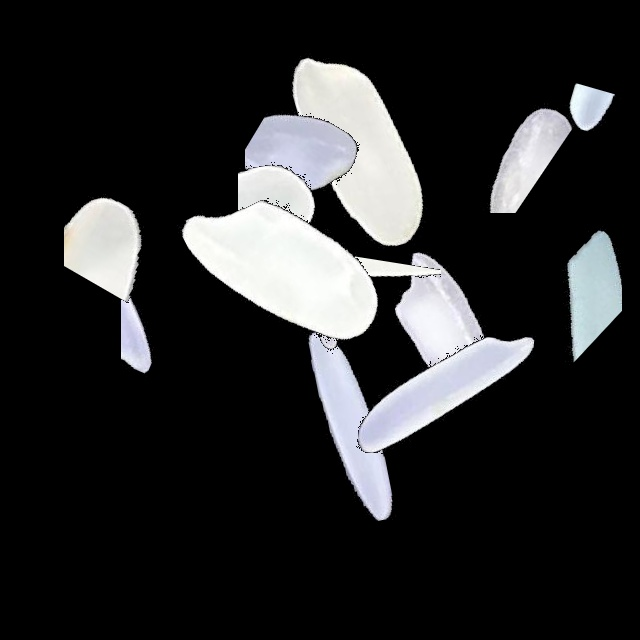Broken: (245, 46, 415, 296), (221, 181, 353, 431), (355, 85, 605, 213), (500, 160, 622, 410), (238, 102, 352, 352), (64, 109, 173, 359), (121, 182, 223, 432), (344, 186, 441, 436), (248, 182, 327, 432), (557, 2, 632, 252)
Full: (227, 299, 477, 549), (235, 23, 485, 273), (313, 195, 563, 445), (319, 270, 569, 520), (160, 147, 410, 397)
